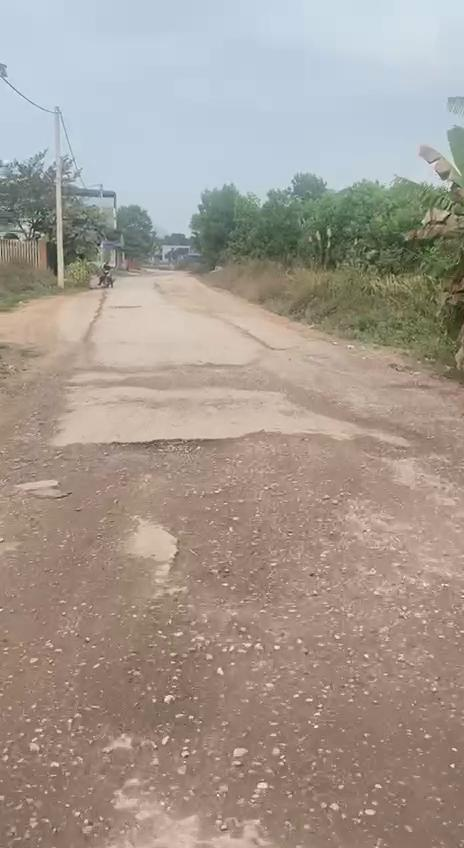pothole: (107, 435, 259, 476), (160, 511, 239, 585), (354, 425, 429, 465)
